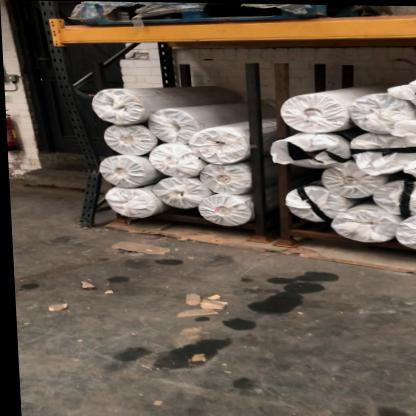vertical_damage: (64, 144, 121, 200)
